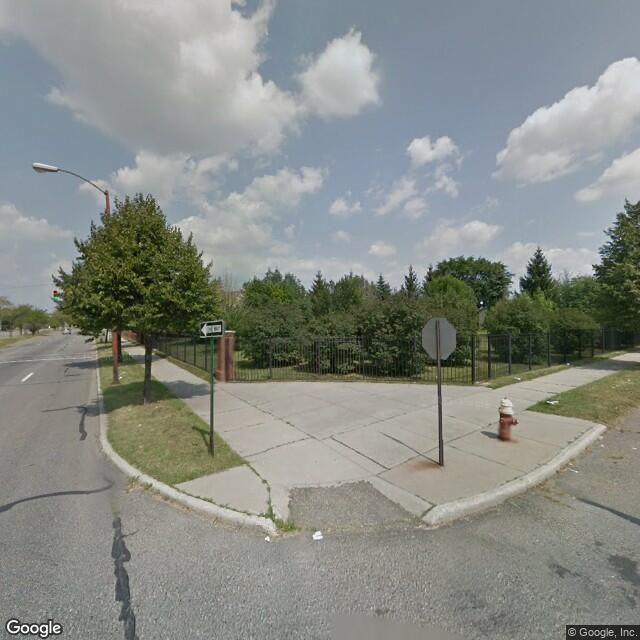litter: (307, 528, 328, 549), (537, 393, 562, 407), (596, 431, 604, 450), (260, 529, 273, 540)
